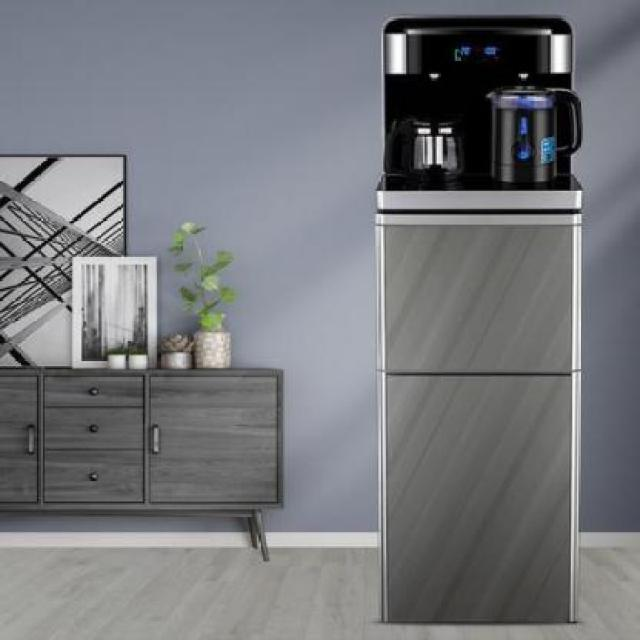cooler: (369, 6, 597, 629)
